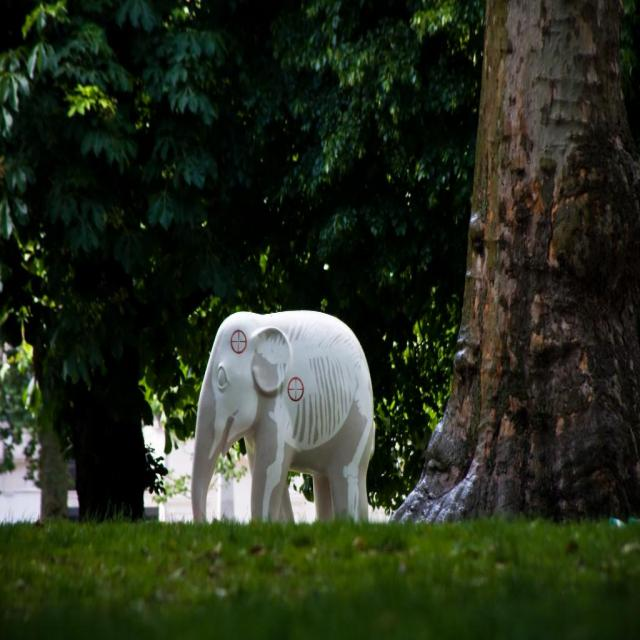elephant: (182, 302, 385, 551)
